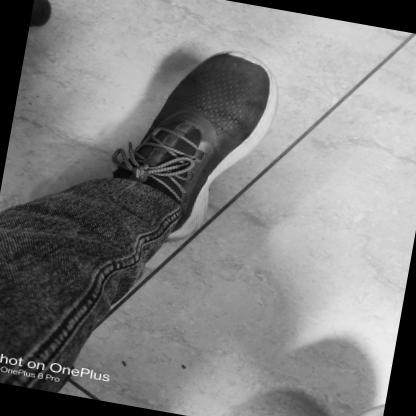ankle: (183, 193, 191, 200)
heel: (169, 234, 176, 240)
left_foot: (104, 35, 288, 257)
pinky: (205, 65, 212, 71)
toe: (260, 76, 266, 83)
